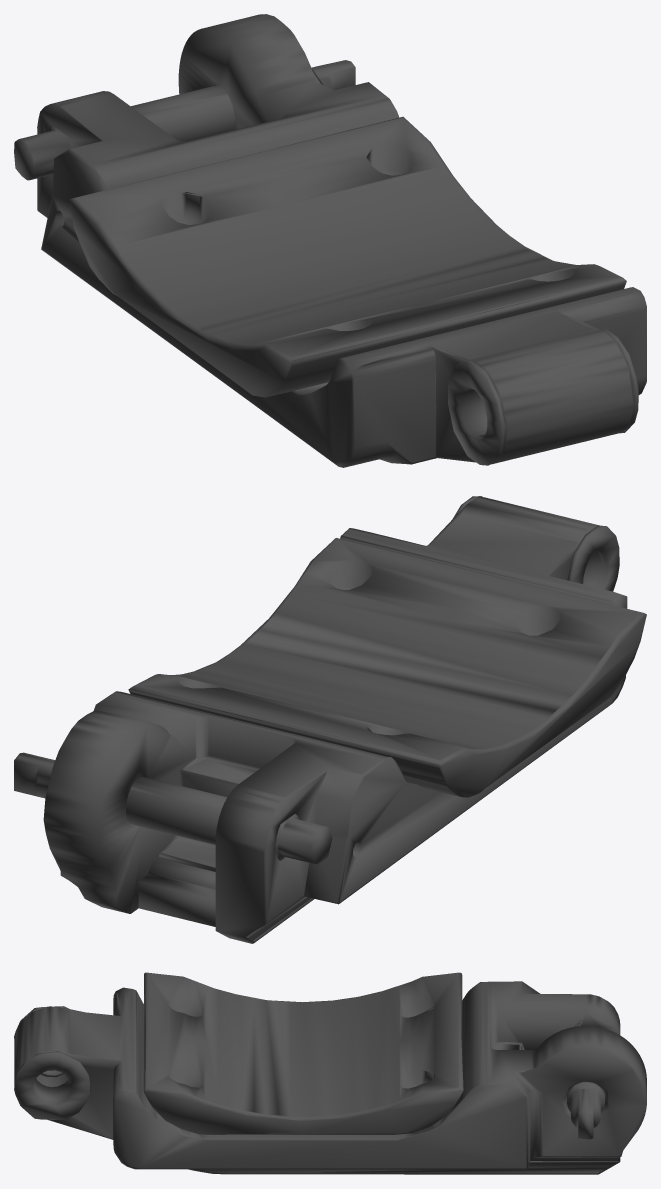
File: l_proximal.obj
3 views of the same model, one above another, from view 1: azimuth 30°, elevation 25°; view 2: azimuth 150°, elevation 25°; view 3: azimuth 270°, elevation 25° (orthographic). The views are drawn at different scales.
Parts seen in each view (by area): view 1: Left_Proximal_Left_Proximal.002; view 2: Left_Proximal_Left_Proximal.002; view 3: Left_Proximal_Left_Proximal.002.
Part boxes in pixels (x1,y1,x2,y2): Left_Proximal_Left_Proximal.002: (14, 14, 646, 467); Left_Proximal_Left_Proximal.002: (14, 496, 646, 943); Left_Proximal_Left_Proximal.002: (14, 972, 646, 1174).
Bounding box in the file's own units: 0.0401 × 0.02 × 0.083.
1 material, 1 textured.
